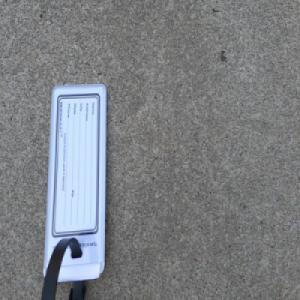LuggageTag: (41, 80, 109, 300)
